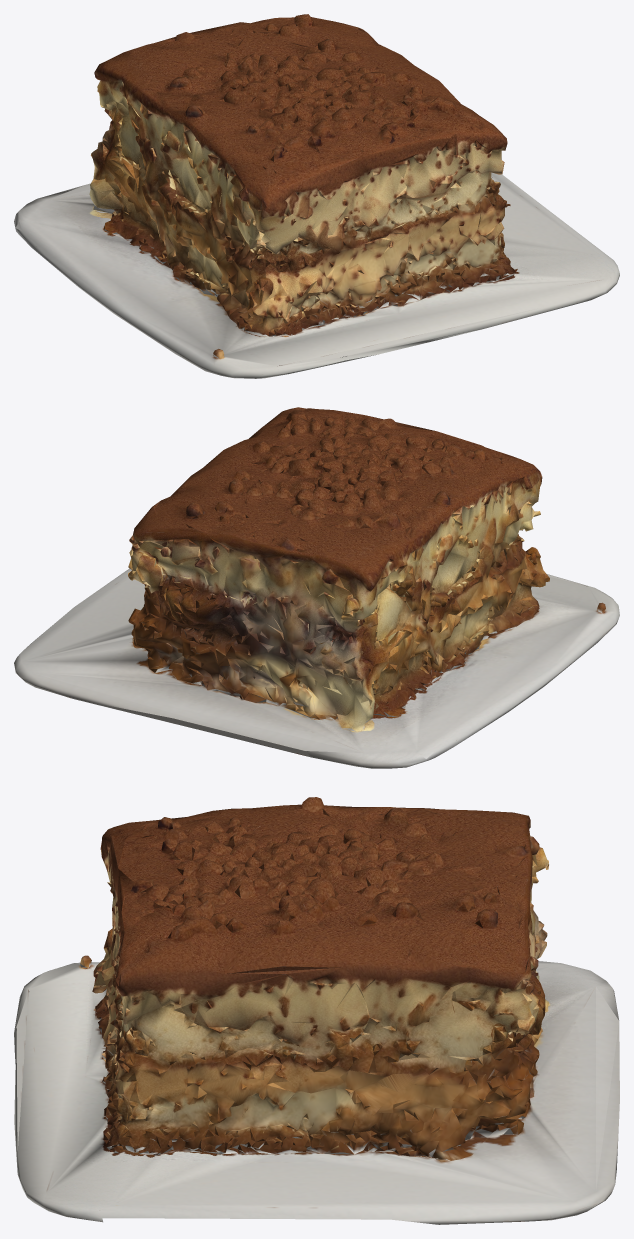
File: tiramisu.glb
3 views of the same model, one above another, from view 1: azimuth 30°, elevation 25°; view 2: azimuth 150°, elevation 25°; view 3: azimuth 270°, elevation 25° (orthographic). The views are drawn at different scales.
Visible parts, largest first — view 1: output_unwrapped; view 2: output_unwrapped; view 3: output_unwrapped.
Part boxes in pixels (box(x1,y1,x2,y2)): output_unwrapped: box(14, 14, 619, 378); output_unwrapped: box(14, 407, 619, 768); output_unwrapped: box(14, 797, 619, 1224).
Bounding box in the file's own units: 0.0616 × 0.025 × 0.0603.
Materials: 1 (1 with a texture image).
